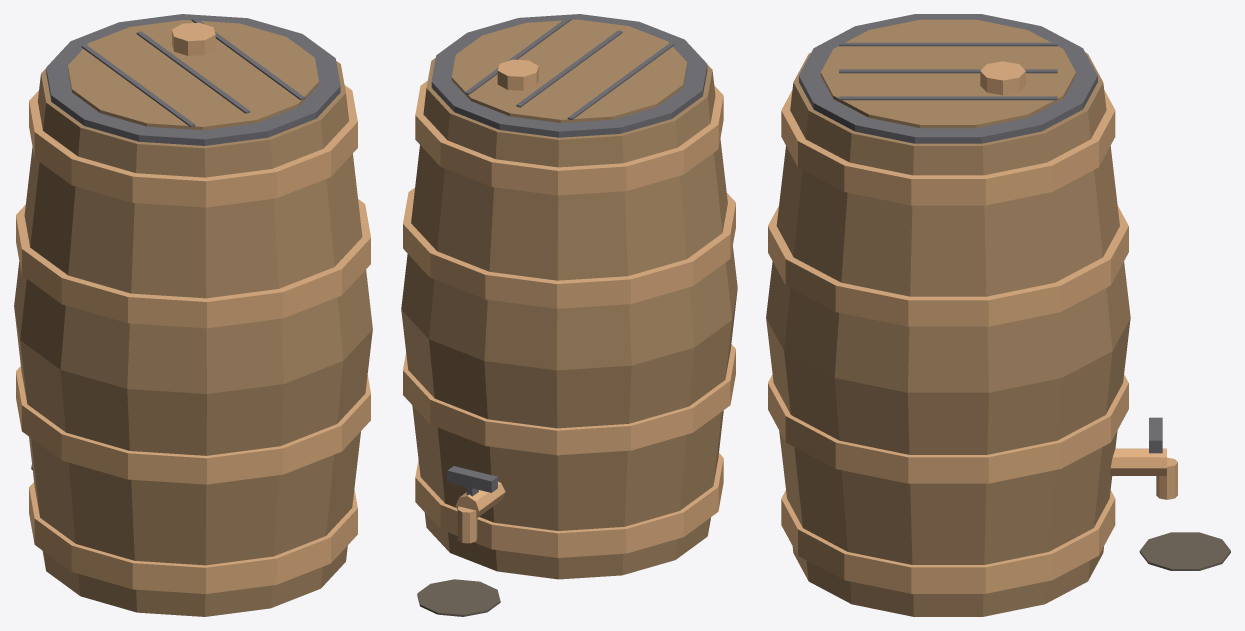
Rendered from barrel.glb.
3 renders of one model, left to right at view 1: azimuth 30°, elevation 25°; view 2: azimuth 150°, elevation 25°; view 3: azimuth 270°, elevation 25°, orthographic. The views are drawn at different scales.
Parts seen in each view (by area): view 1: Barrel; view 2: Barrel; view 3: Barrel.
Boxes of the visible parts, x1,y1,x2,y2 form: Barrel: [14, 14, 372, 616]; Barrel: [401, 14, 737, 616]; Barrel: [766, 14, 1230, 616].
Size of the model in its own units: 0.39 by 0.6 by 0.51.
